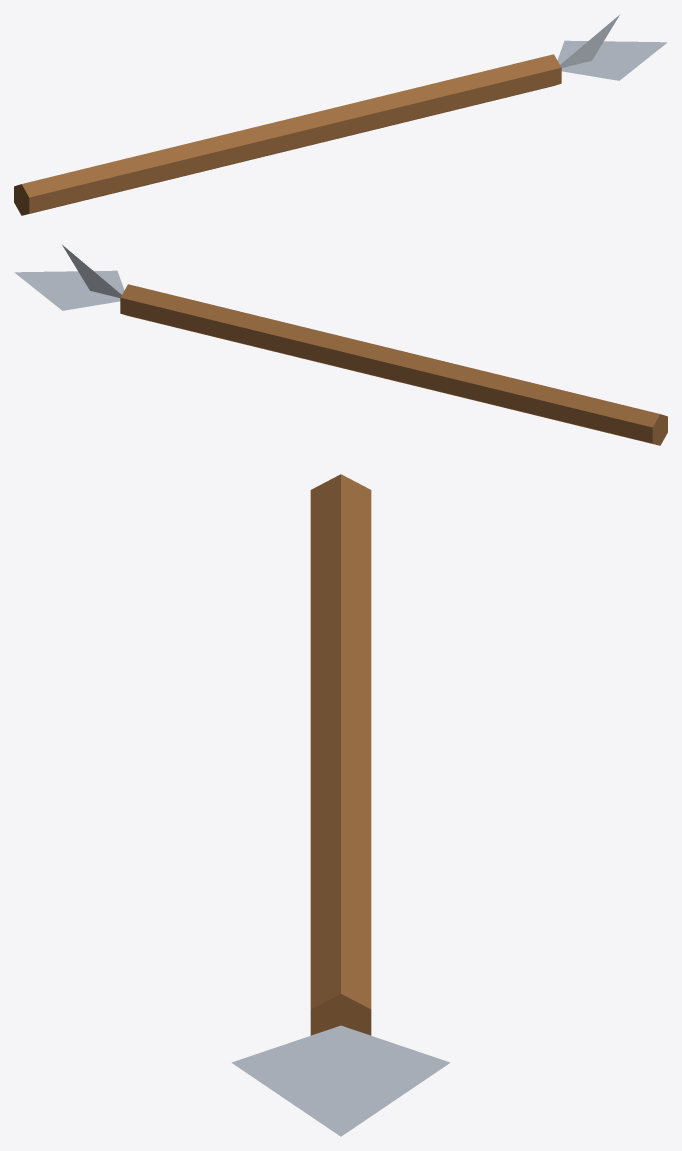
Rendered from drop_harpoon.glb.
3 views of the same model, one above another, from view 1: azimuth 30°, elevation 25°; view 2: azimuth 150°, elevation 25°; view 3: azimuth 270°, elevation 25° (orthographic). The views are drawn at different scales.
Parts seen in each view (by area): view 1: drop_harpoon; view 2: drop_harpoon; view 3: drop_harpoon.
Boxes of the visible parts, x1,y1,x2,y2 form: drop_harpoon: (14, 15, 667, 215); drop_harpoon: (14, 245, 667, 445); drop_harpoon: (231, 474, 450, 1136).
Bounding box in the file's own units: 0.68 × 0.056 × 0.1.
